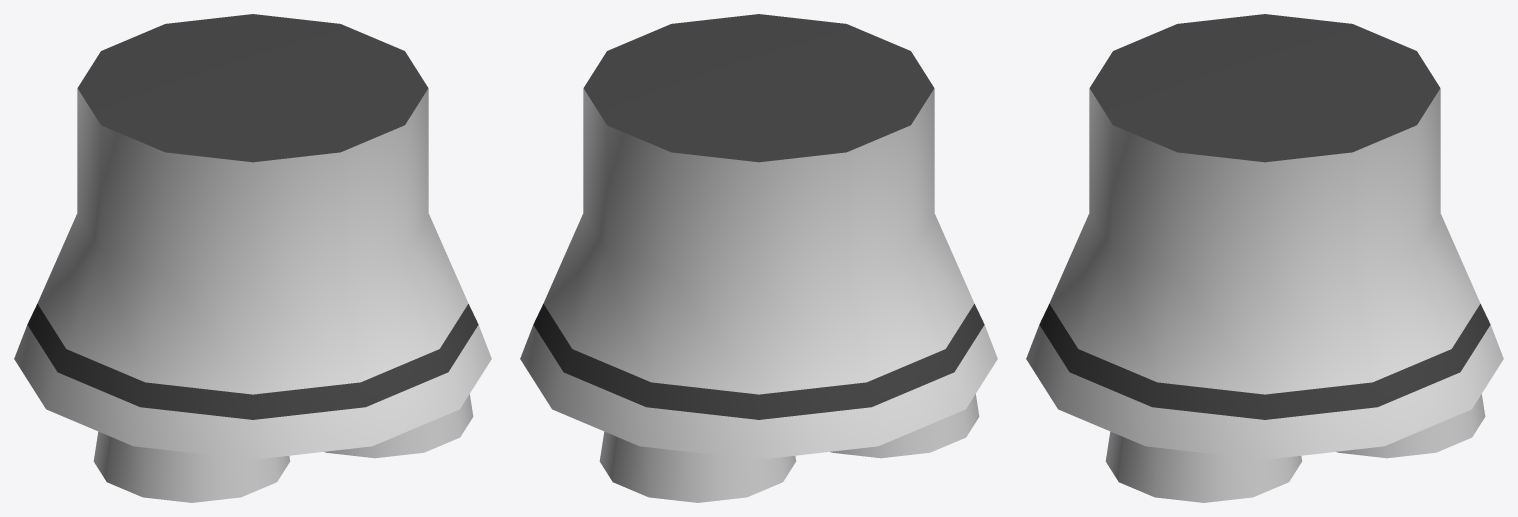
Rendered from M_Rocket_part_3.fbx.
3 renders of one model, left to right at view 1: azimuth 30°, elevation 25°; view 2: azimuth 150°, elevation 25°; view 3: azimuth 270°, elevation 25°, orthographic.
Parts seen in each view (by area): view 1: M_Rocket_part_3; view 2: M_Rocket_part_3; view 3: M_Rocket_part_3.
Boxes of the visible parts, x1,y1,x2,y2 form: M_Rocket_part_3: [14, 14, 491, 502]; M_Rocket_part_3: [520, 14, 997, 502]; M_Rocket_part_3: [1026, 14, 1503, 502].
Bounding box in the file's own units: 168 × 129 × 168.
